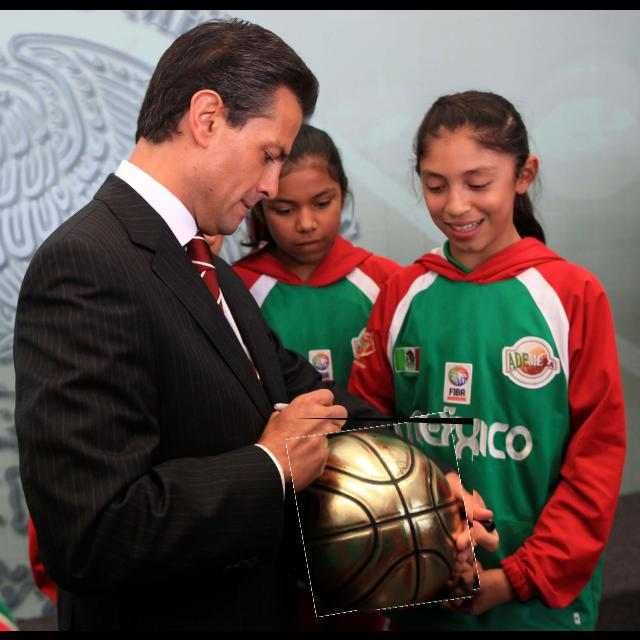Football: (293, 418, 473, 610)
